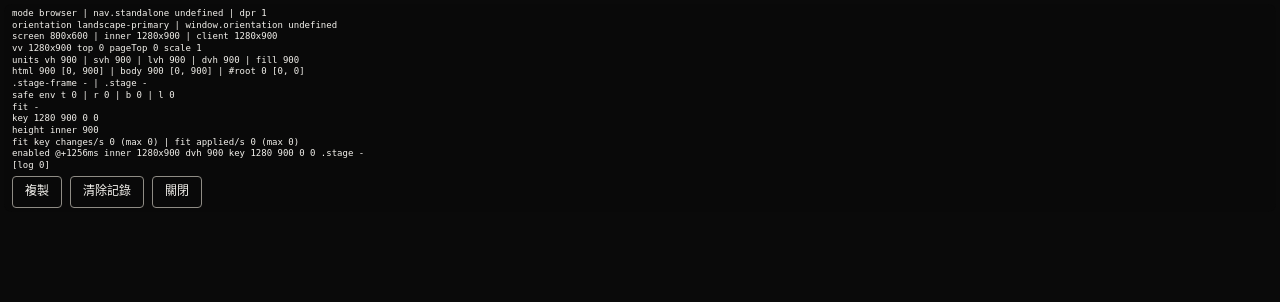
DiagPanel › should fall back to a selected text box when the clipboard is not there
Click the button "複製" at (37, 192), box [12,176,62,208]
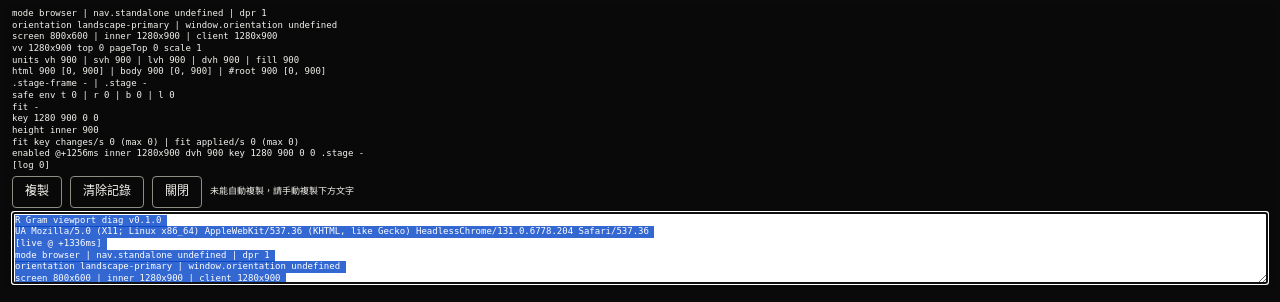
Check: the message shows "未能自動複製", box [210,186,354,196]
